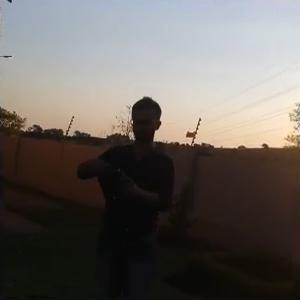follow: (73, 84, 180, 298)
